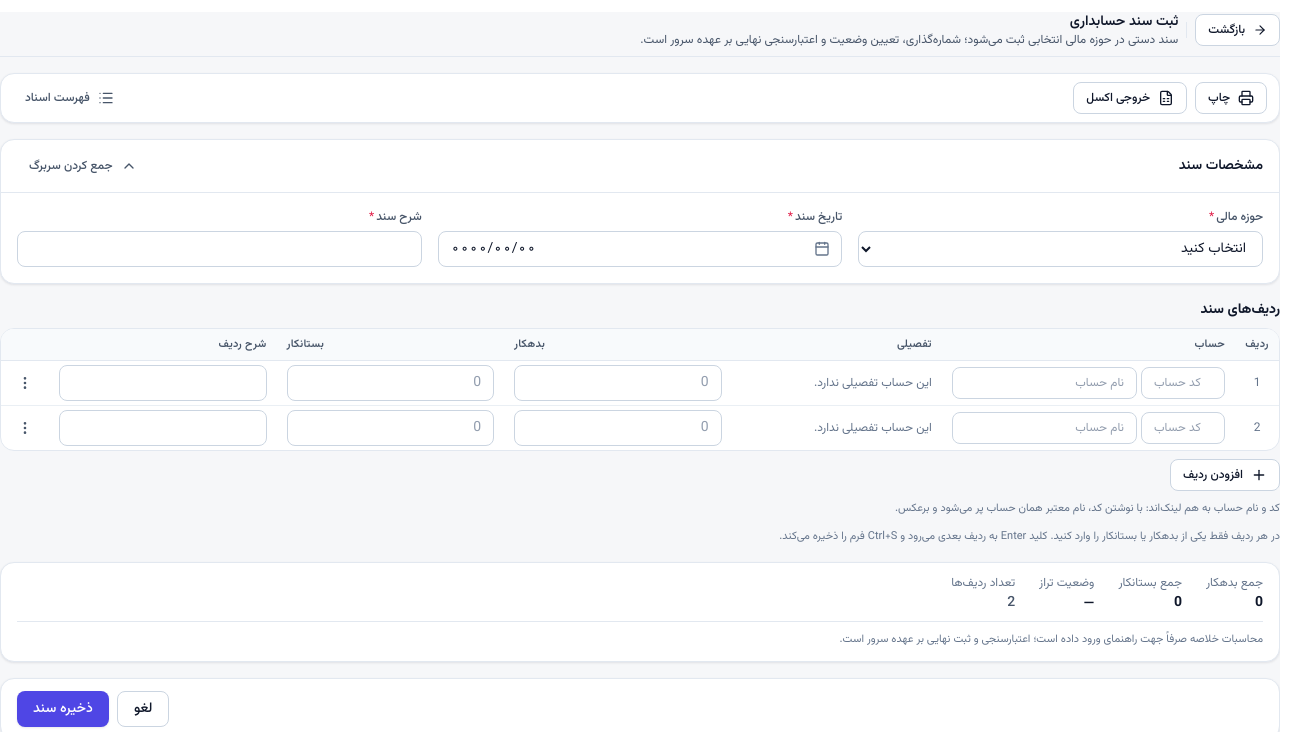
Test: Document create — validation › requires description before submit (area/date are pre-filled)
Expected: the dropdown labelled "حوزه مالی" is shown, 858,231 -> 1263,267
Step 1. Click the button "ذخیره سند" → (63,709), box 17,691 -> 109,727
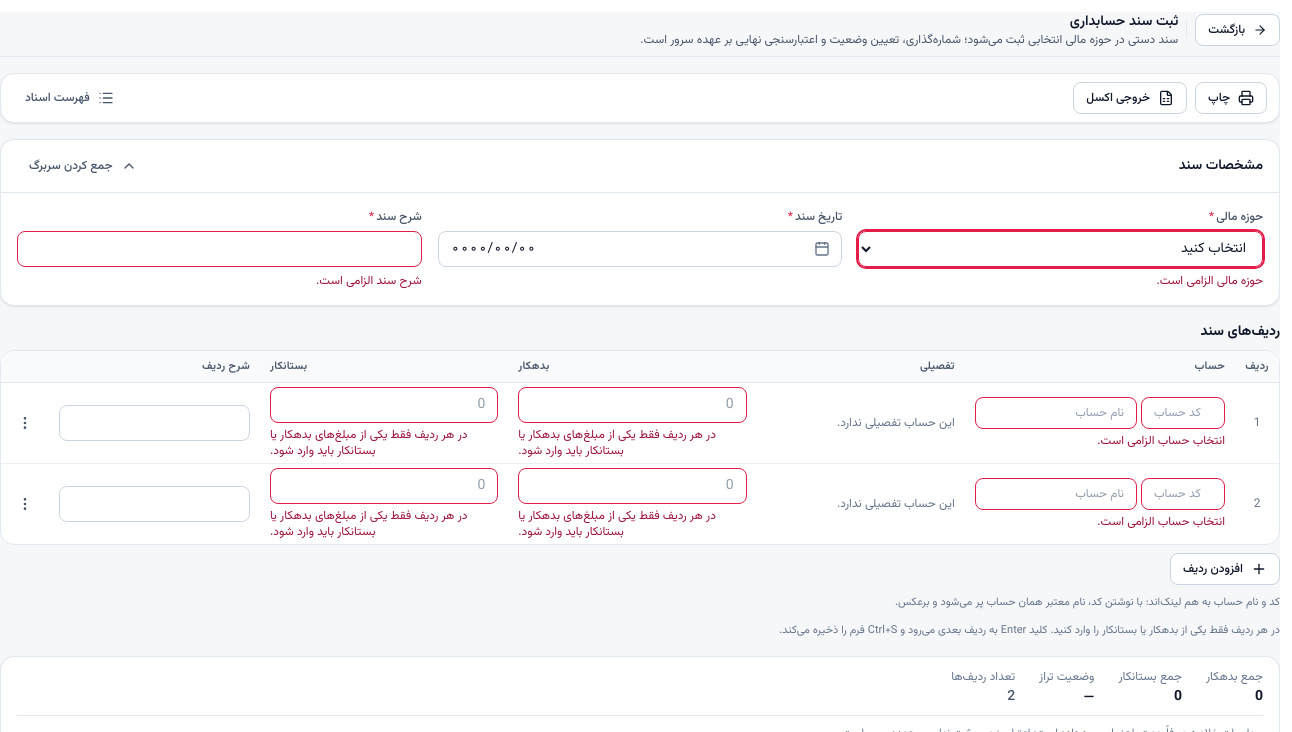
Expected: the text "شرح سند الزامی است." is shown, 316,272 -> 422,290
